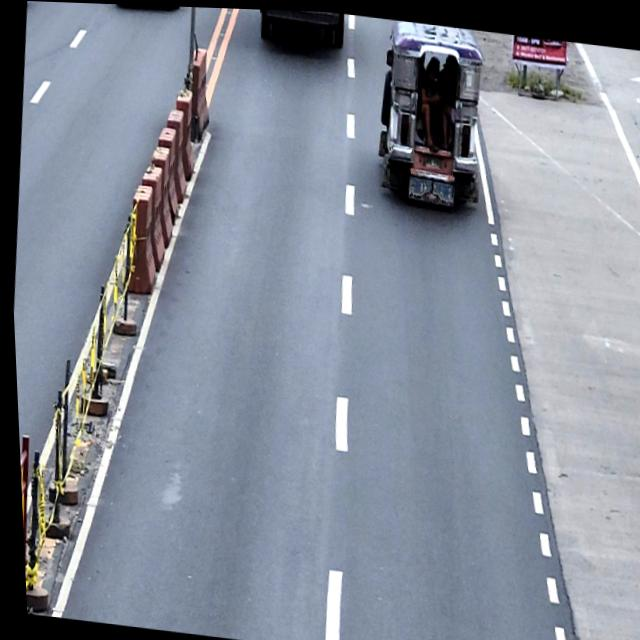Jeep: (367, 15, 492, 210)
License-Plate: (421, 148, 441, 166)
